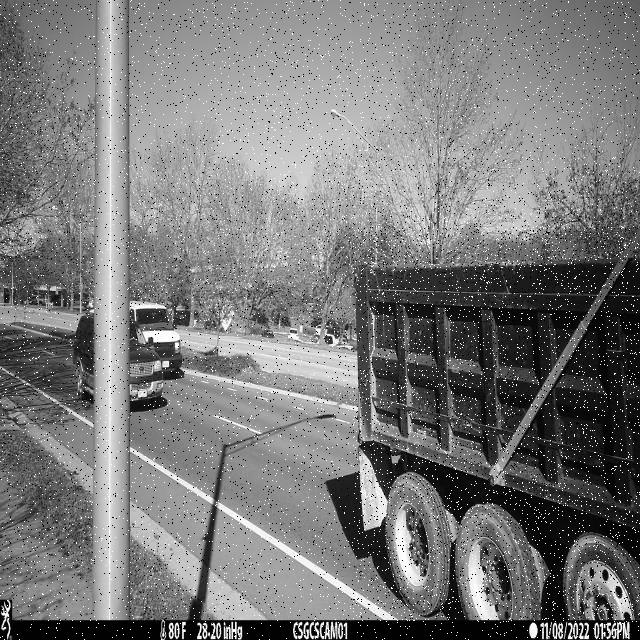Box Truck: (353, 227, 640, 623)
